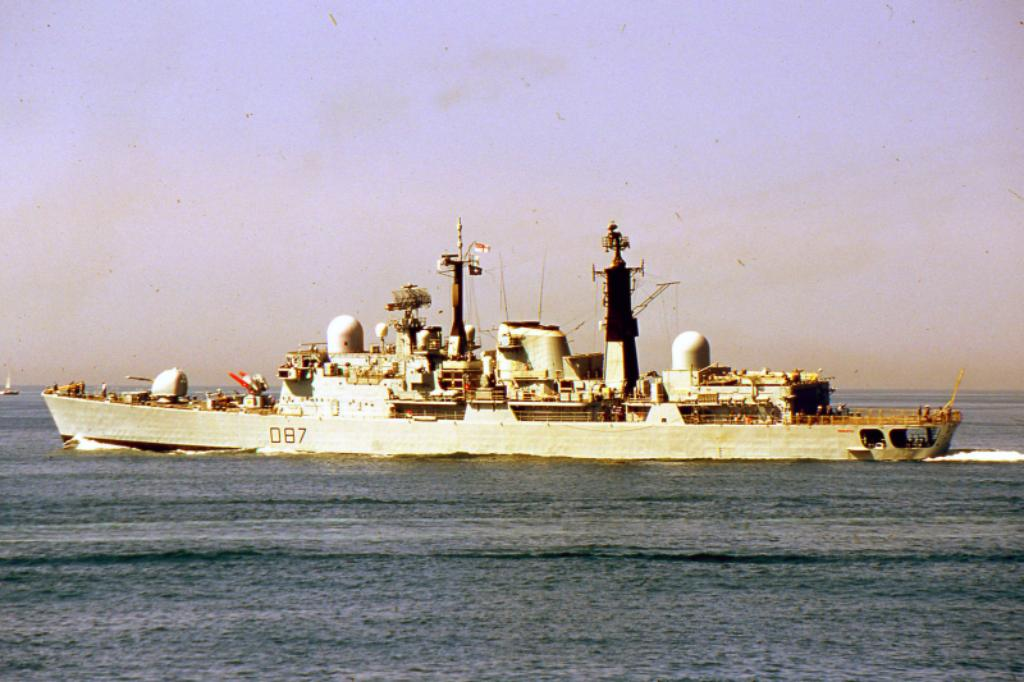Warship: (42, 211, 970, 463)
